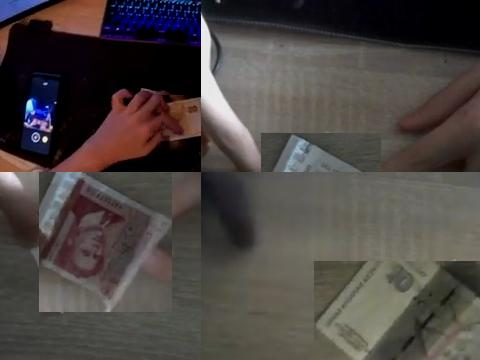10leva: (314, 261, 480, 360)
50leva: (161, 95, 201, 141)
5leva: (39, 172, 172, 312), (271, 133, 365, 172)
